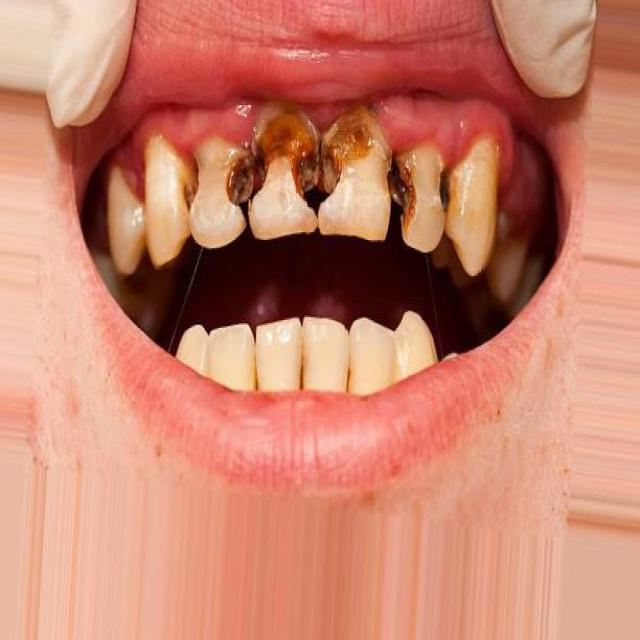caries: (256, 101, 316, 213), (317, 107, 375, 211), (381, 142, 422, 233), (170, 142, 206, 216), (215, 139, 250, 215), (431, 157, 458, 210)
